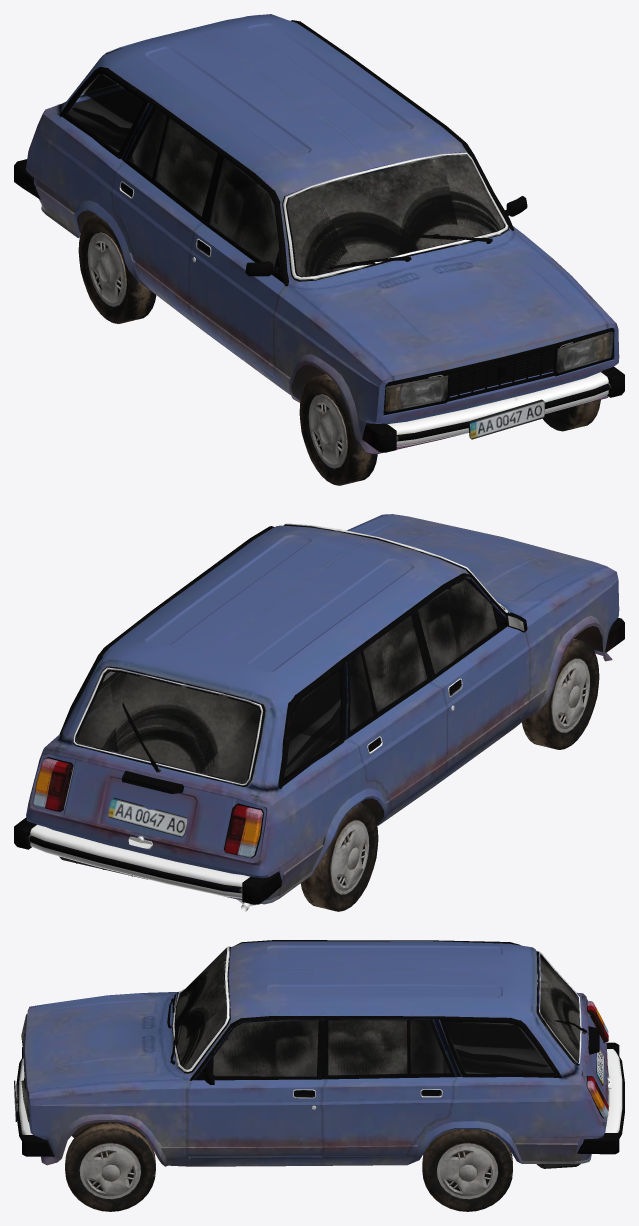
3 views of the same model, one above another, from view 1: azimuth 30°, elevation 25°; view 2: azimuth 150°, elevation 25°; view 3: azimuth 270°, elevation 25° (orthographic). The views are drawn at different scales.
Visible parts, largest first — view 1: Plane, glass 1.001, Wheel 2.002, light, Wheel 2.003, cap wheel.002, cap wheel.003, Wheel 2.001; view 2: Plane, glass 1.001, Wheel 2.003, Wheel 2.002, cap wheel.003, cap wheel.002; view 3: Plane, glass 1.001, Wheel 2.001, Wheel 2, cap wheel, cap wheel.001.
Boxes of the visible parts, x1=… form: Plane: x1=14, y1=14, x2=624, y2=454; glass 1.001: x1=68, y1=74, x2=504, y2=276; Wheel 2.002: x1=299, y1=374, x2=377, y2=485; light: x1=384, y1=332, x2=613, y2=411; Wheel 2.003: x1=78, y1=214, x2=156, y2=323; cap wheel.002: x1=87, y1=232, x2=126, y2=306; cap wheel.003: x1=308, y1=394, x2=347, y2=468; Wheel 2.001: x1=543, y1=399, x2=600, y2=431; Plane: x1=14, y1=514, x2=624, y2=911; glass 1.001: x1=77, y1=579, x2=497, y2=782; Wheel 2.003: x1=300, y1=802, x2=378, y2=911; Wheel 2.002: x1=522, y1=639, x2=599, y2=749; cap wheel.003: x1=551, y1=658, x2=589, y2=732; cap wheel.002: x1=330, y1=820, x2=369, y2=894; Plane: x1=14, y1=940, x2=624, y2=1168; glass 1.001: x1=175, y1=948, x2=579, y2=1076; Wheel 2.001: x1=65, y1=1122, x2=155, y2=1211; Wheel 2: x1=422, y1=1129, x2=512, y2=1211; cap wheel: x1=79, y1=1143, x2=140, y2=1199; cap wheel.001: x1=437, y1=1143, x2=498, y2=1199.
Bounding box in the file's own units: 1.76 × 1.45 × 4.12.
4 materials, 4 textured.
